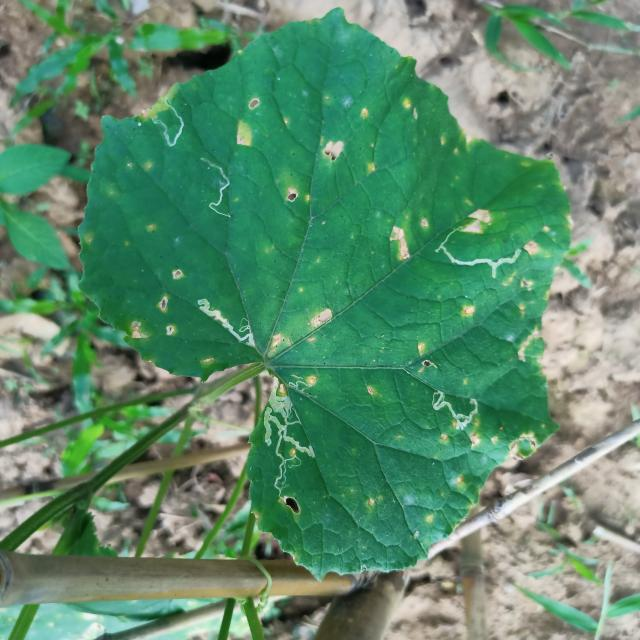disease_cucumber: (128, 268, 185, 340), (502, 266, 554, 319), (524, 214, 578, 260), (469, 428, 538, 462), (387, 212, 429, 260), (236, 96, 261, 147), (507, 326, 540, 364), (306, 305, 334, 342), (462, 207, 491, 235), (319, 133, 346, 163), (268, 330, 294, 358), (286, 183, 310, 205), (418, 341, 435, 372), (402, 97, 419, 122), (368, 494, 381, 510), (424, 509, 436, 524), (462, 304, 474, 318), (279, 380, 287, 394), (202, 356, 214, 365), (306, 374, 316, 384)
